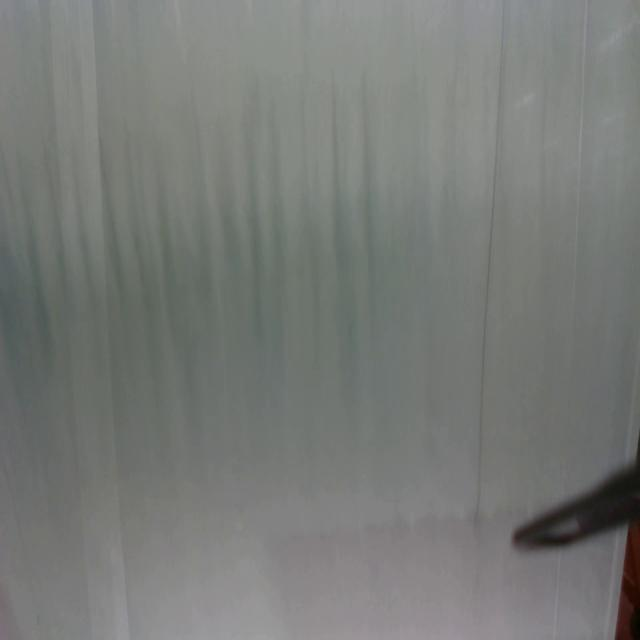crease: (52, 0, 119, 639), (474, 0, 506, 533), (560, 0, 590, 492), (552, 552, 564, 640)
